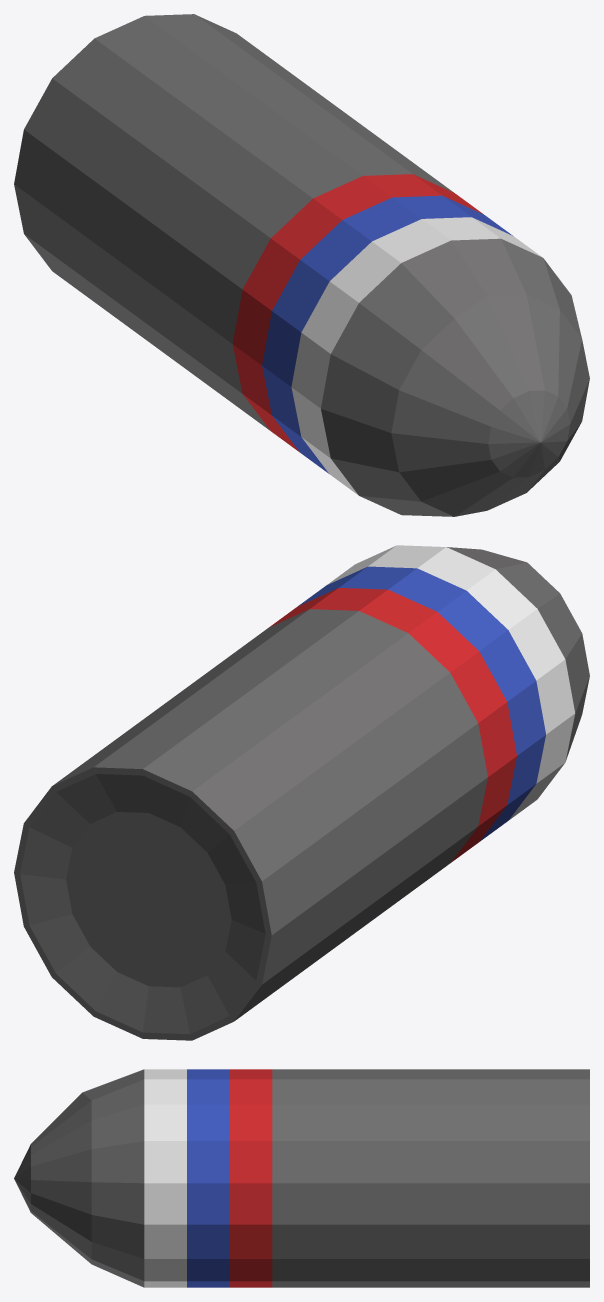
The model's file is Soilder76 rocket.fbx.
The picture shows the model from 3 angles, top to bottom: view 1: azimuth 30°, elevation 25°; view 2: azimuth 150°, elevation 25°; view 3: azimuth 270°, elevation 25°; orthographic projection. The views are drawn at different scales.
Parts seen in each view (by area): view 1: Rocket; view 2: Rocket; view 3: Rocket.
Part boxes in pixels (x1=…): Rocket: x1=14, y1=14, x2=589, y2=516; Rocket: x1=14, y1=545, x2=589, y2=1040; Rocket: x1=14, y1=1069, x2=589, y2=1287.
Bounding box in the file's own units: 5.12 × 5.12 × 13.48.
